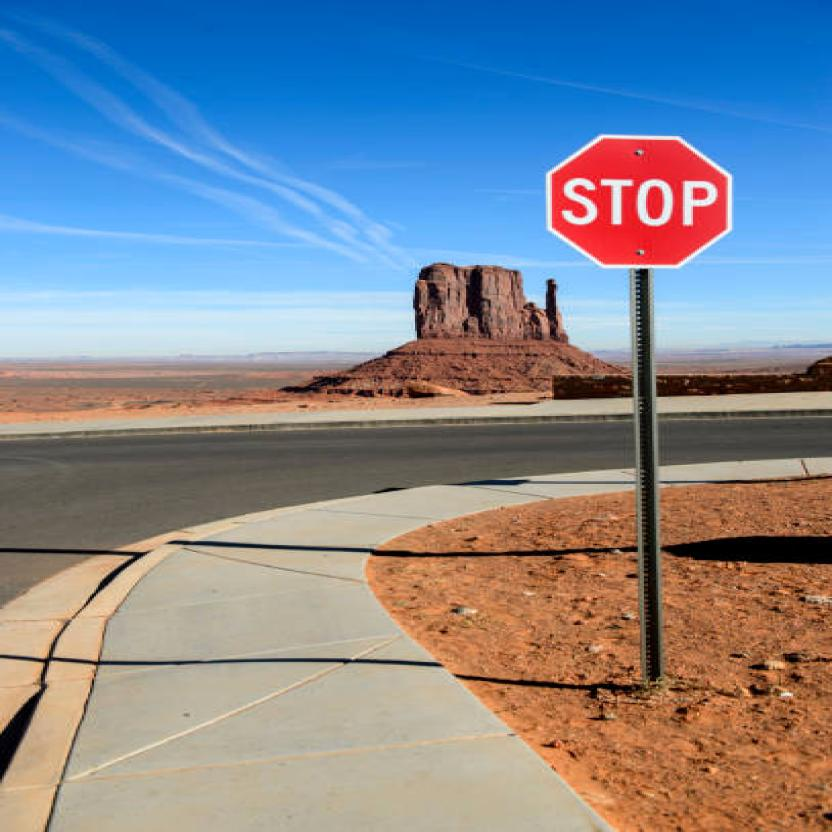Pole: (625, 268, 667, 675)
Sign: (545, 134, 734, 270)
